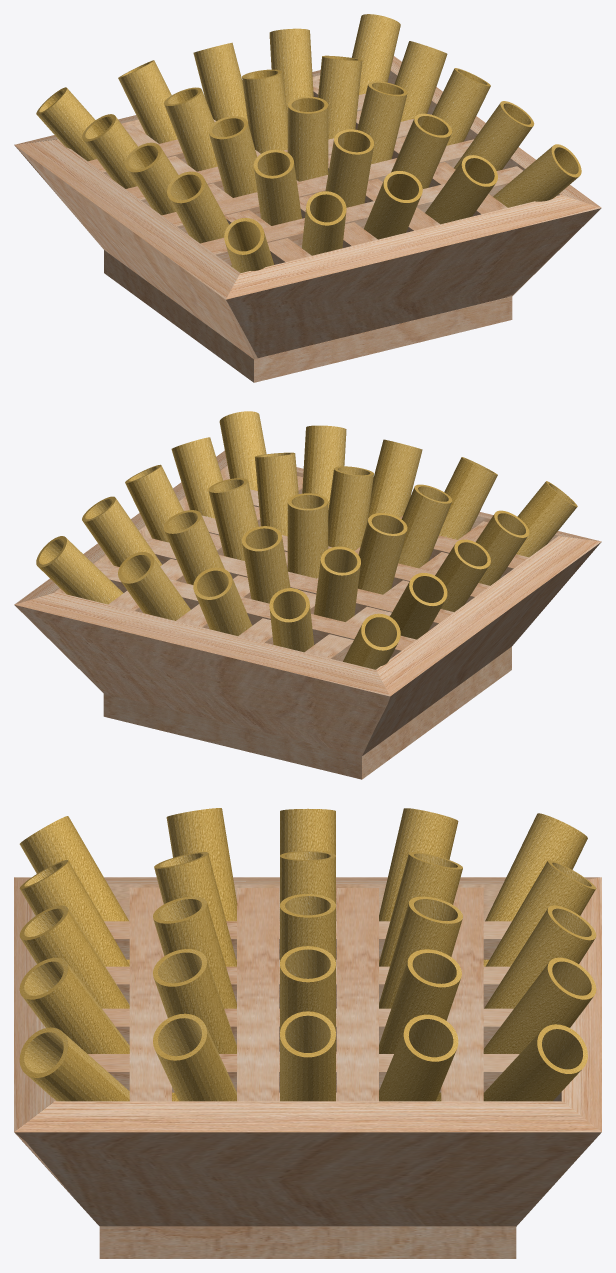
File: 1.75inchMultiAngleRack.fbx
3 renders of one model, top to bottom at view 1: azimuth 30°, elevation 25°; view 2: azimuth 150°, elevation 25°; view 3: azimuth 270°, elevation 25°, orthographic. The views are drawn at different scales.
Parts seen in each view (by area): view 1: Cube.009, Cube.012, Cube, Cylinder.001, Cylinder.002, Cylinder.015, Cylinder.005, Cylinder.007, Cylinder.013, Cylinder.012, Cylinder.014, Cylinder.023 (+26 smaller); view 2: Cube.011, Cube.012, Cube, Cylinder.003, Cylinder.001, Cylinder.018, Cylinder.005, Cylinder.008, Cylinder.013, Cylinder.019, Cylinder.012, Cylinder.002 (+25 smaller); view 3: Cube.010, Cube, Cube.004, Cube.003, Cube.008, Cube.007, Cylinder.014, Cylinder.019, Cylinder.015, Cylinder.016, Cylinder.018, Cylinder.017 (+26 smaller).
Part boxes in pixels (left/top/right/bottom): Cube.009: left=226, top=195, right=601, bottom=358; Cube.012: left=14, top=139, right=257, bottom=359; Cube: left=104, top=250, right=512, bottom=382; Cylinder.001: left=287, top=96, right=328, bottom=181; Cylinder.002: left=242, top=69, right=287, bottom=153; Cylinder.015: left=493, top=144, right=581, bottom=207; Cylinder.005: left=208, top=116, right=257, bottom=197; Cylinder.007: left=193, top=42, right=247, bottom=121; Cylinder.013: left=253, top=149, right=301, bottom=225; Cylinder.012: left=164, top=87, right=217, bottom=171; Cylinder.014: left=425, top=155, right=497, bottom=224; Cylinder.023: left=167, top=171, right=232, bottom=266; Cube.011: left=14, top=592, right=390, bottom=756; Cube.012: left=362, top=536, right=601, bottom=755; Cube: left=103, top=646, right=511, bottom=779; Cylinder.003: left=328, top=466, right=373, bottom=550; Cylinder.001: left=287, top=493, right=328, bottom=578; Cylinder.018: left=36, top=536, right=123, bottom=604; Cylinder.005: left=358, top=513, right=407, bottom=594; Cylinder.008: left=368, top=439, right=422, bottom=517; Cylinder.013: left=398, top=484, right=452, bottom=568; Cylinder.019: left=118, top=552, right=190, bottom=620; Cylinder.012: left=314, top=546, right=360, bottom=644; Cylinder.002: left=242, top=526, right=290, bottom=603; Cube.010: left=14, top=1101, right=601, bottom=1226; Cube: left=99, top=1092, right=516, bottom=1258; Cube.004: left=237, top=888, right=278, bottom=1101; Cube.003: left=337, top=888, right=378, bottom=1101; Cube.008: left=129, top=887, right=171, bottom=1101; Cube.007: left=441, top=887, right=483, bottom=1101; Cylinder.014: left=19, top=957, right=129, bottom=1053; Cylinder.019: left=483, top=957, right=596, bottom=1053; Cylinder.015: left=19, top=1027, right=129, bottom=1101; Cylinder.016: left=153, top=1013, right=236, bottom=1101; Cylinder.018: left=483, top=1024, right=587, bottom=1101; Cylinder.017: left=379, top=1014, right=458, bottom=1101.
Size of the model in its own units: 85.71 by 42 by 83.52.
Materials: 2 (2 with a texture image).
